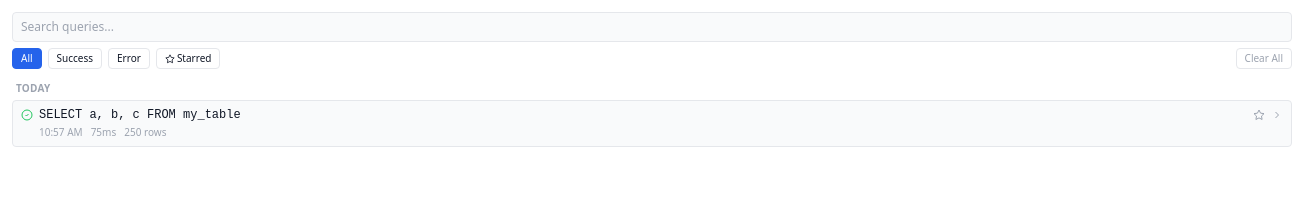
Test: QHP-4: Clicking entry expands and Run Again calls handler › expands entry to show full SQL on click
Click the button with test id "query-history-entry-toggle" at (140, 115), box [13, 101, 1291, 146]
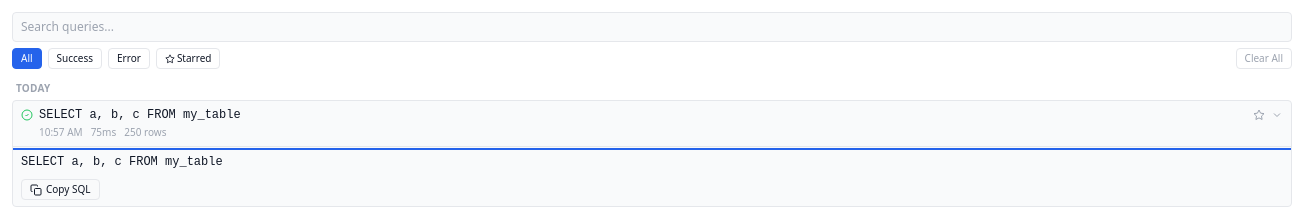
Result: the element with test id "query-history-entry-expanded" is shown at [13, 146, 1291, 206]
Result: the text with test id "query-history-entry-full-sql" reads "SELECT a, b, c FROM my_table" at [21, 155, 223, 169]
